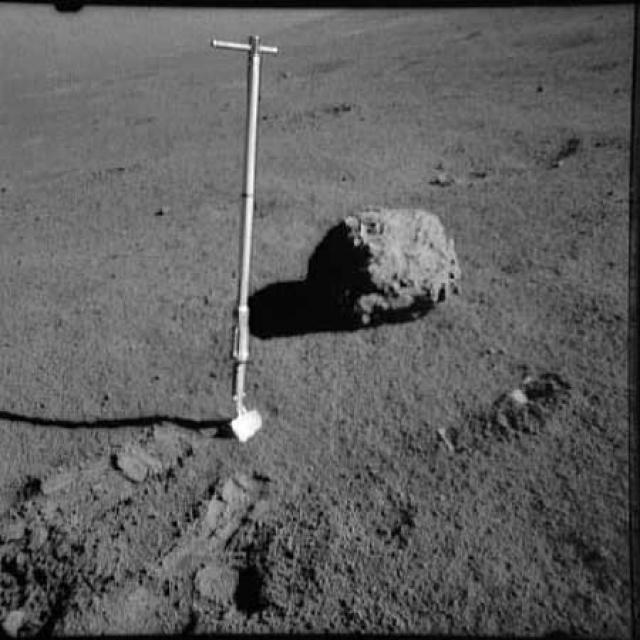artifact: (188, 17, 301, 445)
crater: (413, 108, 592, 186)
rock: (313, 188, 472, 331)
